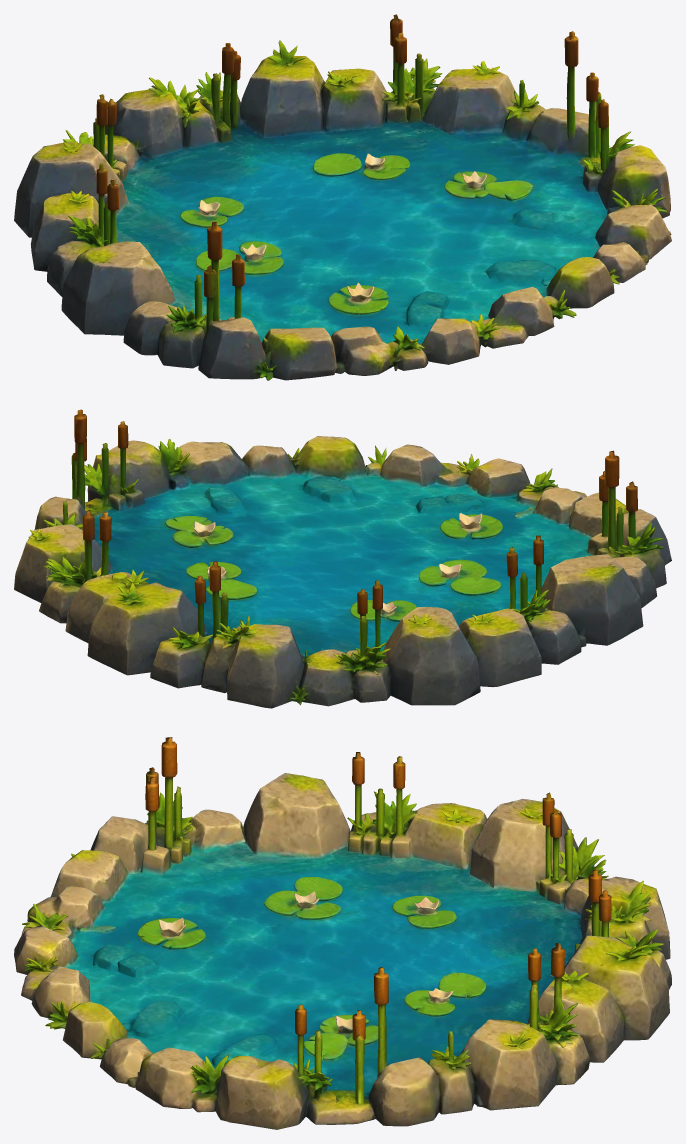
Rendered from water-lily-pond.glb.
3 views of the same model, one above another, from view 1: azimuth 30°, elevation 25°; view 2: azimuth 150°, elevation 25°; view 3: azimuth 270°, elevation 25° (orthographic). The views are drawn at different scales.
Visible parts, largest first — view 1: tripo_node_a1e6a2ef-e91a-4141-9a03-deb4231ae82f; view 2: tripo_node_a1e6a2ef-e91a-4141-9a03-deb4231ae82f; view 3: tripo_node_a1e6a2ef-e91a-4141-9a03-deb4231ae82f.
Boxes of the visible parts, <box> form: tripo_node_a1e6a2ef-e91a-4141-9a03-deb4231ae82f: <box>14,14,671,380</box>; tripo_node_a1e6a2ef-e91a-4141-9a03-deb4231ae82f: <box>14,409,671,708</box>; tripo_node_a1e6a2ef-e91a-4141-9a03-deb4231ae82f: <box>14,737,671,1129</box>.
Size of the model in its own units: 1 by 0.228 by 0.9291.
1 material, 1 textured.
